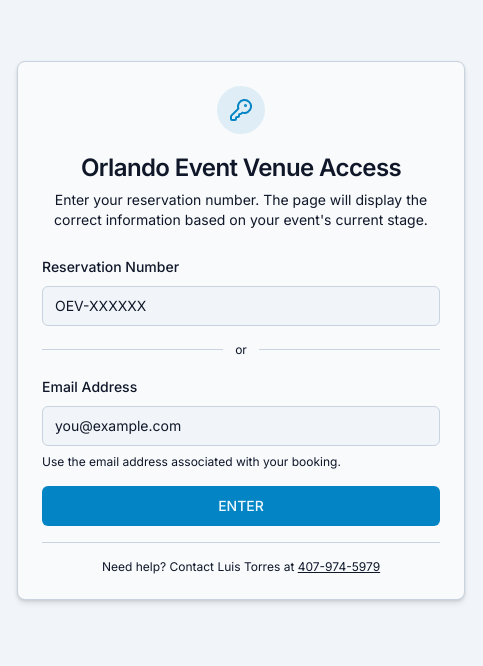
Test: AccessCode — recurring access codes › handles recurring_code_paused
The width and height of the screenshot is (483, 666).
In the field labelled "Reservation Number": (241, 306) [42,286,440,326], type "OEV-RFCG01"
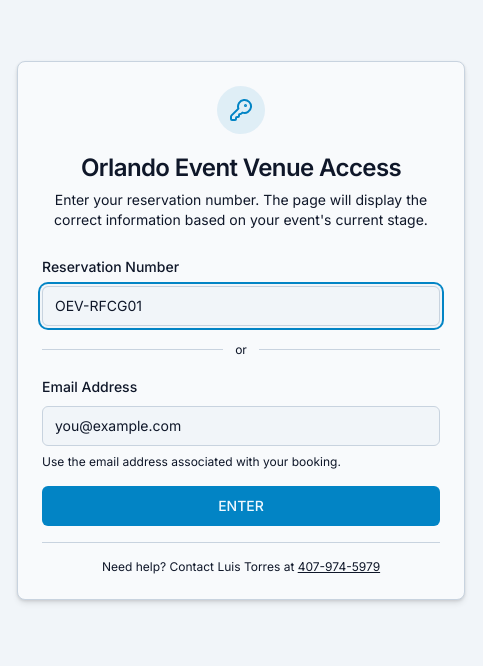
Click the button "ENTER": (241, 506) [42,486,440,526]
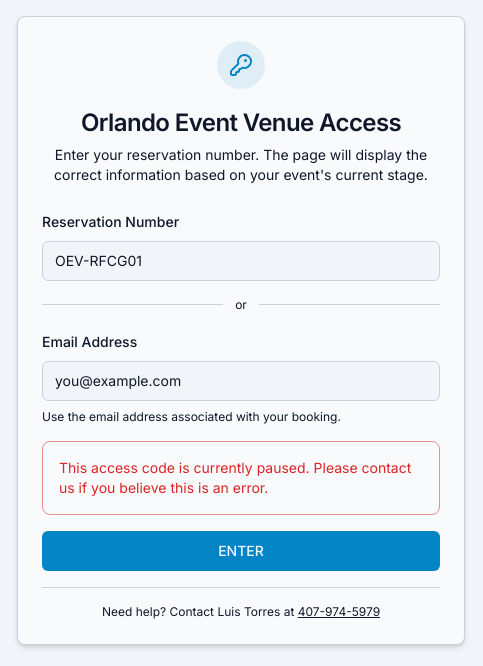
Check: the text "currently paused" is shown, box [59,458,411,496]
